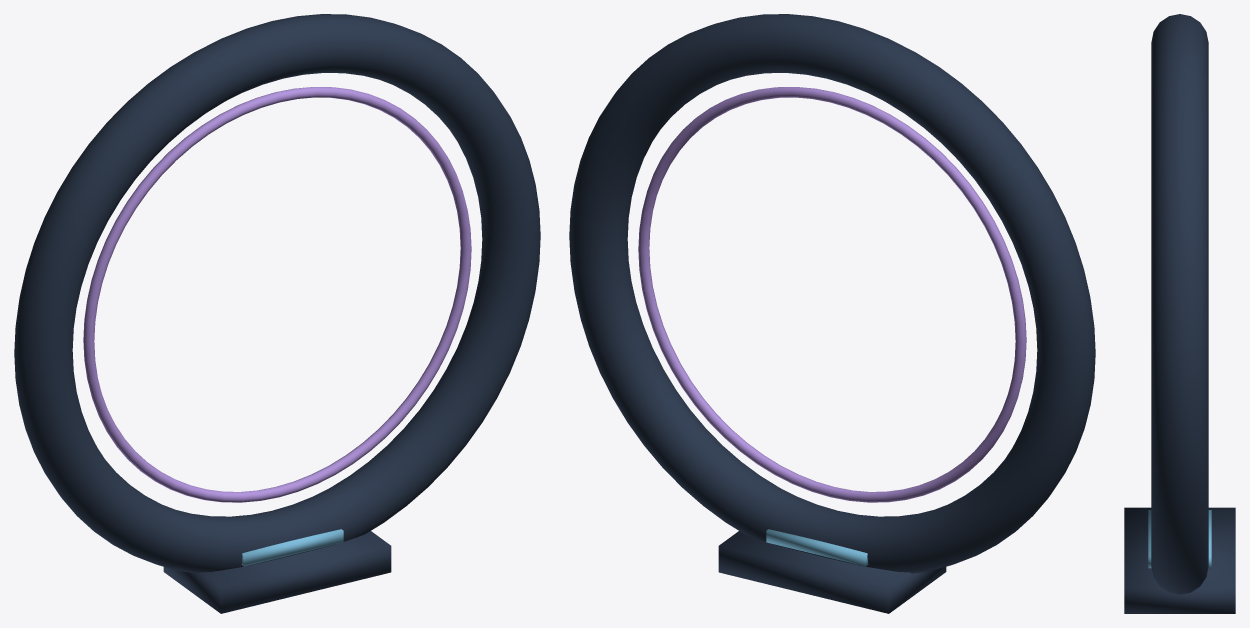
Rendered from universal-portal-ring-v1.gltf.
3 renders of one model, left to right at view 1: azimuth 30°, elevation 25°; view 2: azimuth 150°, elevation 25°; view 3: azimuth 270°, elevation 25°, orthographic. The views are drawn at different scales.
Parts seen in each view (by area): view 1: universal-portal-ring-v1-00, universal-portal-ring-v1-02, universal-portal-ring-v1-11, universal-portal-ring-v1-12; view 2: universal-portal-ring-v1-00, universal-portal-ring-v1-02, universal-portal-ring-v1-11, universal-portal-ring-v1-12; view 3: universal-portal-ring-v1-00, universal-portal-ring-v1-11, universal-portal-ring-v1-12.
Boxes of the visible parts, x1=… form: universal-portal-ring-v1-00: x1=14, y1=14, x2=540, y2=573; universal-portal-ring-v1-02: x1=83, y1=87, x2=471, y2=502; universal-portal-ring-v1-11: x1=163, y1=531, x2=391, y2=613; universal-portal-ring-v1-12: x1=241, y1=529, x2=343, y2=566; universal-portal-ring-v1-00: x1=569, y1=14, x2=1095, y2=573; universal-portal-ring-v1-02: x1=638, y1=87, x2=1026, y2=502; universal-portal-ring-v1-11: x1=718, y1=531, x2=946, y2=613; universal-portal-ring-v1-12: x1=766, y1=529, x2=868, y2=566; universal-portal-ring-v1-00: x1=1151, y1=14, x2=1208, y2=594; universal-portal-ring-v1-11: x1=1124, y1=507, x2=1235, y2=613; universal-portal-ring-v1-12: x1=1148, y1=510, x2=1211, y2=568.
Bounding box in the file's own units: 3.66 × 3.7 × 0.7.
